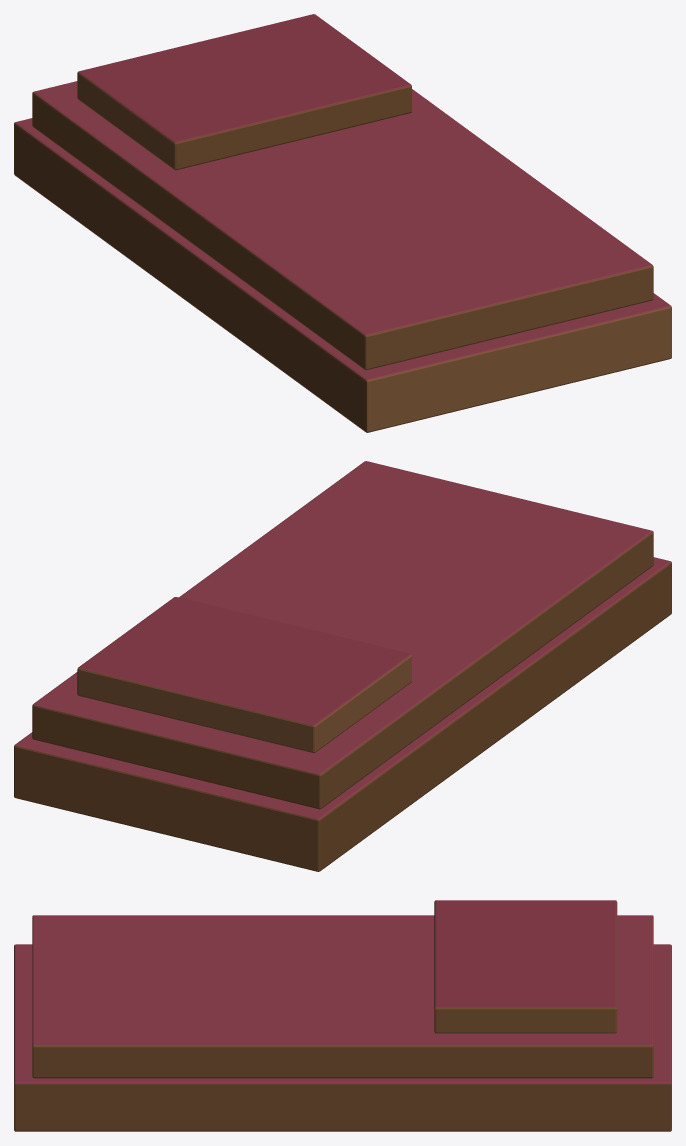
The model's file is Bed.fbx.
3 views of the same model, one above another, from view 1: azimuth 30°, elevation 25°; view 2: azimuth 150°, elevation 25°; view 3: azimuth 270°, elevation 25° (orthographic). The views are drawn at different scales.
Visible parts, largest first — view 1: Bed; view 2: Bed; view 3: Bed.
Boxes of the visible parts, box(x1,y1,x2,y2) form: Bed: box(14, 14, 671, 432); Bed: box(14, 461, 671, 871); Bed: box(14, 900, 671, 1131).
Size of what is drawn, in the model's own units: 0.9 by 0.33 by 1.8.
